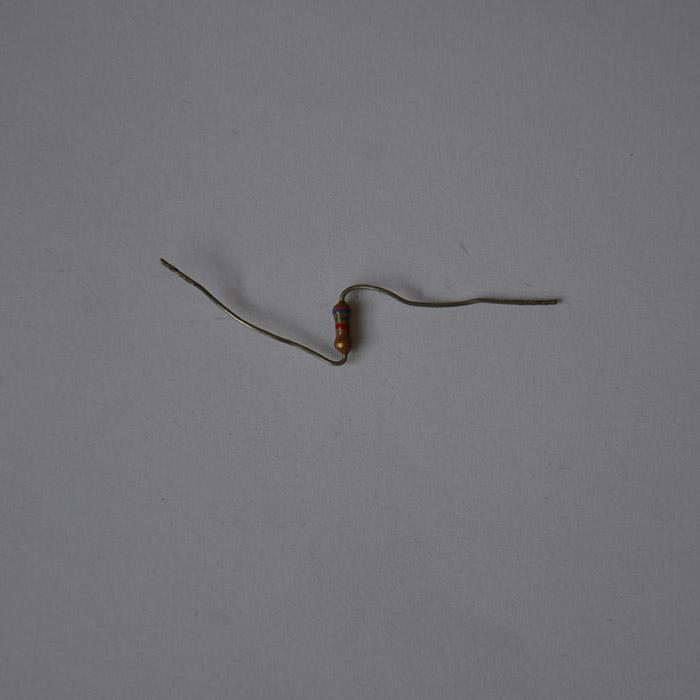resistor: (331, 300, 351, 354)
